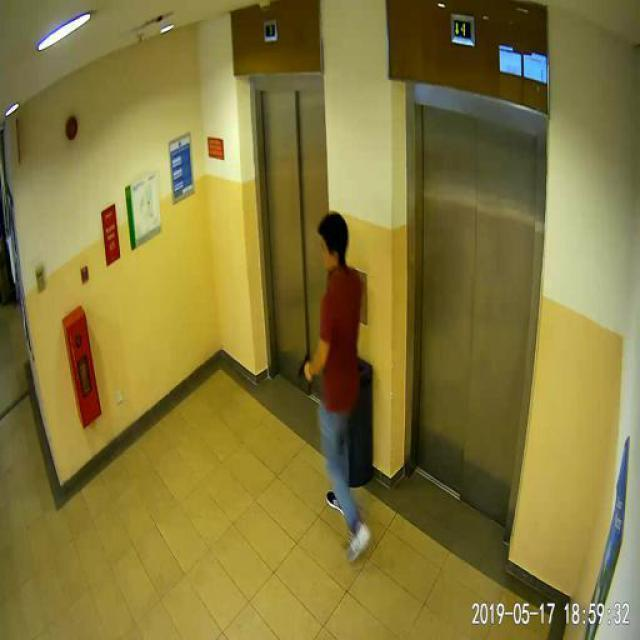gun: (298, 352, 312, 380)
